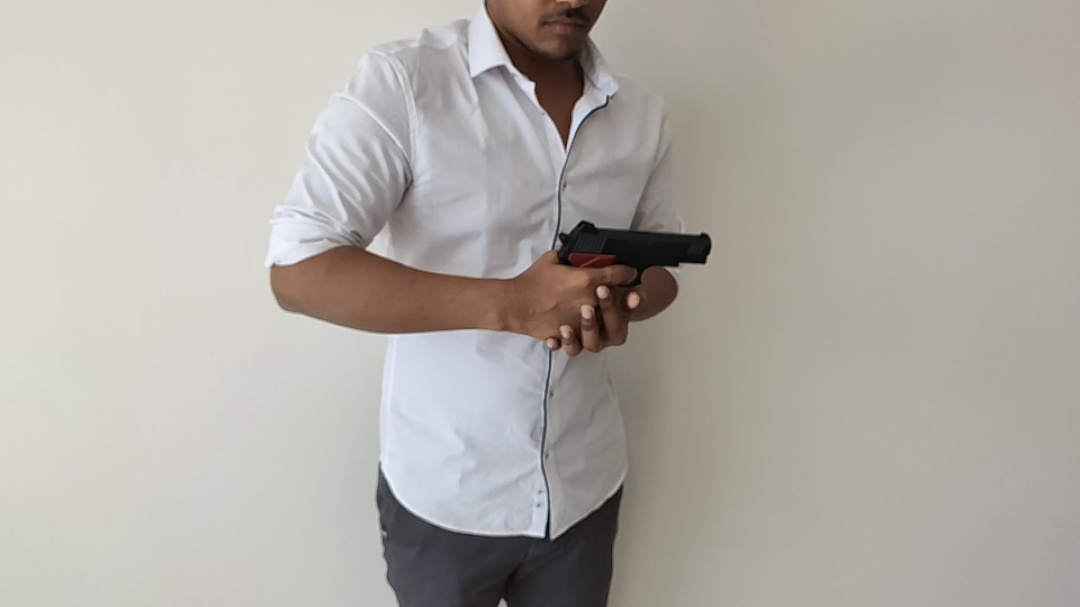gun: (373, 82, 714, 463)
